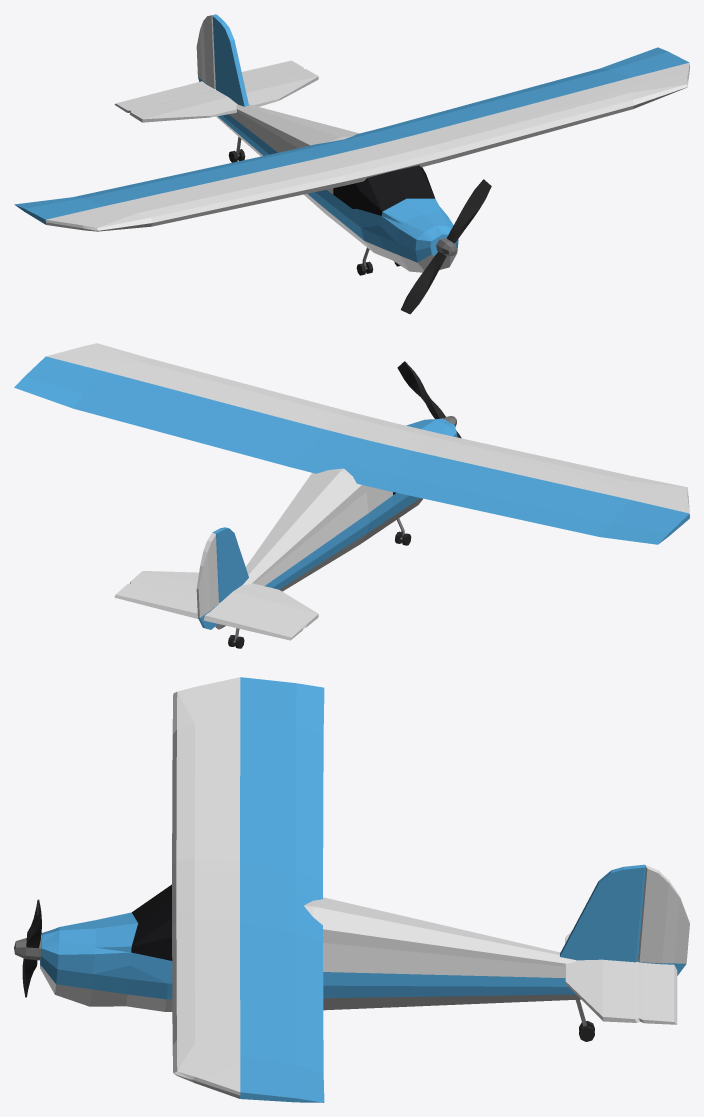
The model's file is Small_Airplane_01.fbx.
3 renders of one model, top to bottom at view 1: azimuth 30°, elevation 25°; view 2: azimuth 150°, elevation 25°; view 3: azimuth 270°, elevation 25°, orthographic. The views are drawn at different scales.
Visible parts, largest first — view 1: Small_Airplane_01, Small_Airplane_01_Prop, Small_Airplane_01_Aileron_R, Small_Airplane_01_Aileron_RR, Small_Airplane_01_Aileron_FL, Small_Airplane_01_Aileron_FR, Small_Airplane_01_Aileron_RL; view 2: Small_Airplane_01, Small_Airplane_01_Aileron_FL, Small_Airplane_01_Aileron_FR, Small_Airplane_01_Aileron_RR, Small_Airplane_01_Aileron_RL, Small_Airplane_01_Aileron_R, Small_Airplane_01_Prop; view 3: Small_Airplane_01, Small_Airplane_01_Aileron_FR, Small_Airplane_01_Aileron_R, Small_Airplane_01_Aileron_FL, Small_Airplane_01_Aileron_RL, Small_Airplane_01_Prop.
Part boxes in pixels (<box>): Small_Airplane_01: <box>14,14,689,275</box>; Small_Airplane_01_Prop: <box>401,179,491,314</box>; Small_Airplane_01_Aileron_R: <box>196,15,215,88</box>; Small_Airplane_01_Aileron_RR: <box>114,81,214,112</box>; Small_Airplane_01_Aileron_FL: <box>385,68,608,127</box>; Small_Airplane_01_Aileron_FR: <box>73,150,298,197</box>; Small_Airplane_01_Aileron_RL: <box>241,60,303,82</box>; Small_Airplane_01: <box>14,343,689,648</box>; Small_Airplane_01_Aileron_FL: <box>73,394,298,466</box>; Small_Airplane_01_Aileron_FR: <box>384,475,609,536</box>; Small_Airplane_01_Aileron_RR: <box>203,603,303,640</box>; Small_Airplane_01_Aileron_RL: <box>114,583,198,618</box>; Small_Airplane_01_Aileron_R: <box>196,533,218,618</box>; Small_Airplane_01_Prop: <box>397,361,461,438</box>; Small_Airplane_01: <box>40,677,686,1102</box>; Small_Airplane_01_Aileron_FR: <box>295,726,323,881</box>; Small_Airplane_01_Aileron_R: <box>638,865,689,963</box>; Small_Airplane_01_Aileron_FL: <box>295,933,323,1073</box>; Small_Airplane_01_Aileron_RL: <box>638,962,677,1024</box>; Small_Airplane_01_Prop: <box>14,899,41,997</box>.
Bounding box in the file's own units: 1591 × 308 × 1095.
